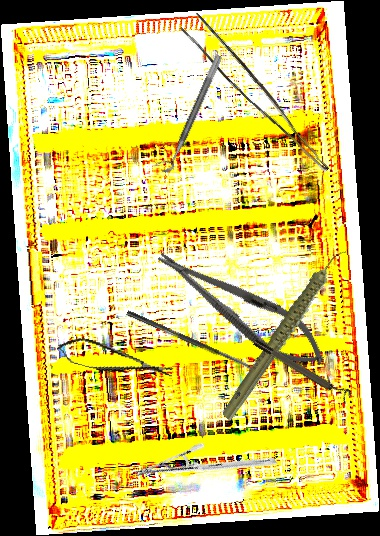Fixation Ring: (153, 49, 224, 176), (251, 333, 354, 405)
Handpiece: (192, 246, 380, 423)
Micro Scissor: (54, 332, 176, 389)
Needle Holder: (147, 234, 336, 381), (133, 401, 278, 533)
Surgical Spoon: (125, 310, 260, 374)
Tissue Forceps: (176, 11, 345, 173)
